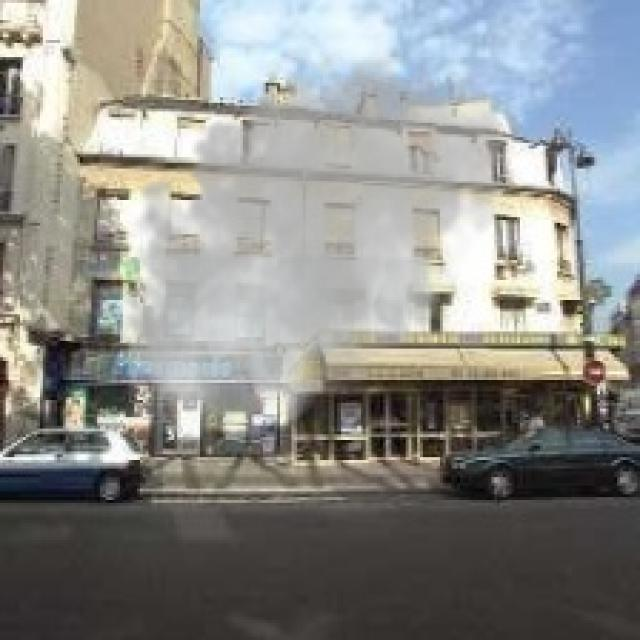smoke: (112, 40, 517, 451)
